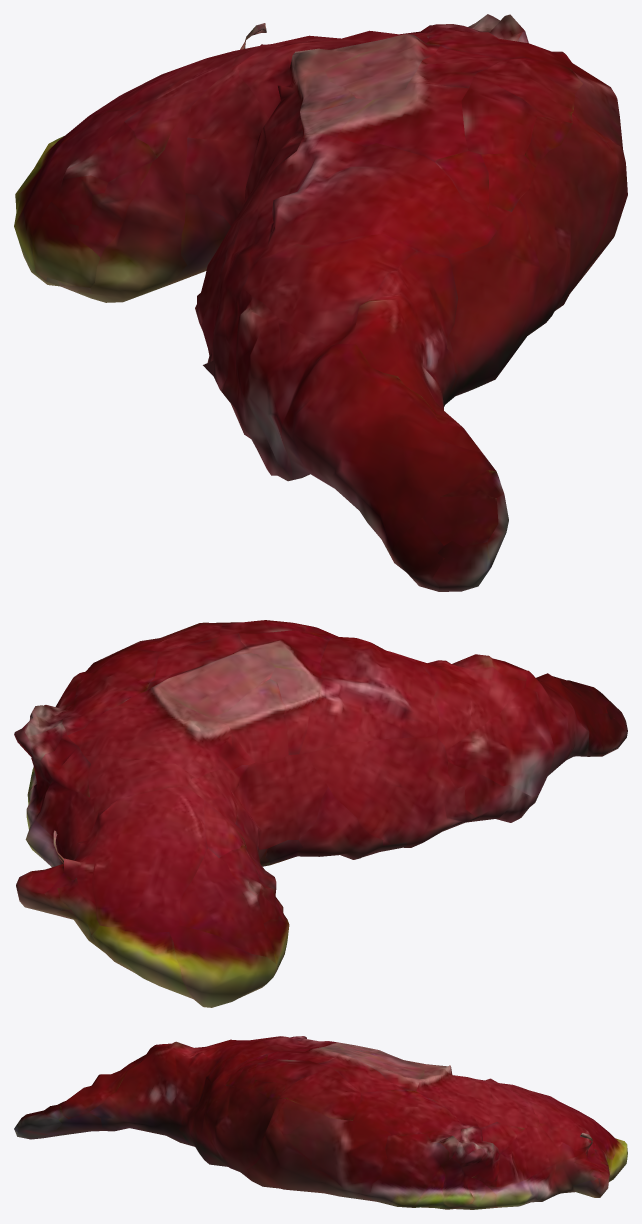
The model's file is hall.glb.
3 views of the same model, one above another, from view 1: azimuth 30°, elevation 25°; view 2: azimuth 150°, elevation 25°; view 3: azimuth 270°, elevation 25° (orthographic). The views are drawn at different scales.
Size of the model in its own units: 0.4594 by 0.2578 by 0.8431.
1 material, 1 textured.
